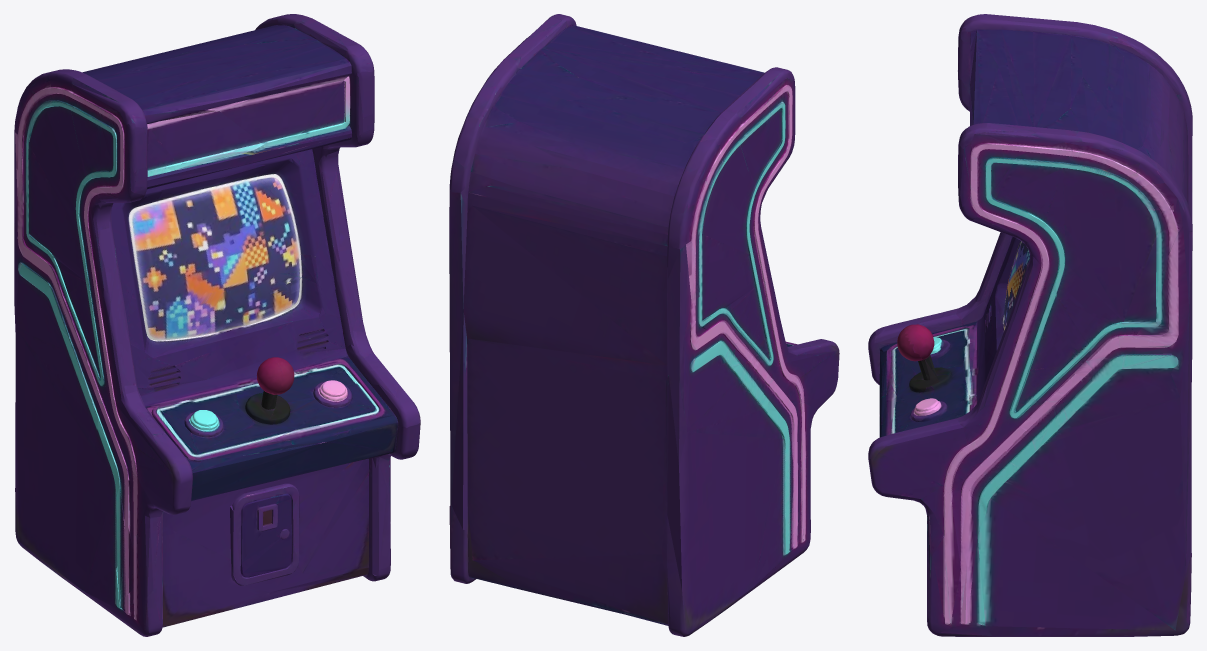
File: arcade.glb
3 views of the same model, side by side, from view 1: azimuth 30°, elevation 25°; view 2: azimuth 150°, elevation 25°; view 3: azimuth 270°, elevation 25° (orthographic). The views are drawn at different scales.
Parts seen in each view (by area): view 1: Mesh_0; view 2: Mesh_0; view 3: Mesh_0.
Boxes of the visible parts, <box> form: Mesh_0: <box>14,14,420,636</box>; Mesh_0: <box>449,14,839,636</box>; Mesh_0: <box>868,14,1192,636</box>.
Bounding box in the file's own units: 0.9572 × 1.9 × 1.1.
Materials: 1 (1 with a texture image).
